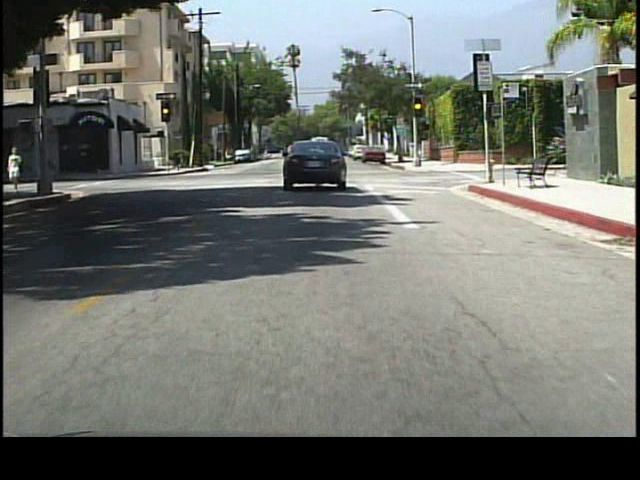person: (8, 144, 27, 194)
